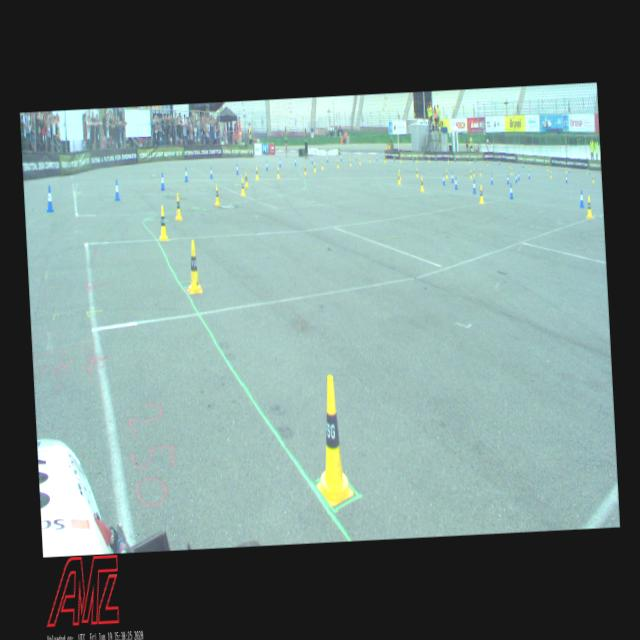blue_cone: (46, 185, 54, 212), (114, 180, 121, 200), (160, 172, 166, 190), (578, 190, 584, 208), (509, 183, 513, 199), (184, 168, 188, 182), (209, 166, 213, 179), (472, 180, 476, 193), (454, 177, 458, 190), (442, 173, 446, 186), (451, 172, 454, 183), (236, 163, 238, 174), (266, 160, 268, 171), (490, 174, 492, 184), (507, 174, 509, 184), (279, 158, 281, 167), (311, 156, 313, 164), (294, 157, 296, 165), (516, 174, 518, 182), (518, 172, 520, 180), (528, 171, 530, 179)
yellow_cone: (312, 374, 354, 507), (185, 240, 202, 294), (158, 206, 168, 240), (175, 193, 182, 220), (585, 196, 593, 218), (213, 184, 220, 206), (240, 178, 246, 196), (478, 186, 484, 203), (244, 171, 248, 187), (420, 176, 424, 192), (276, 167, 280, 179), (255, 167, 258, 180), (397, 172, 400, 185), (469, 170, 472, 179), (479, 168, 482, 176), (399, 169, 401, 180), (472, 168, 474, 178), (416, 168, 418, 178), (314, 162, 316, 172), (322, 160, 324, 170), (446, 169, 448, 178), (304, 166, 306, 174)
